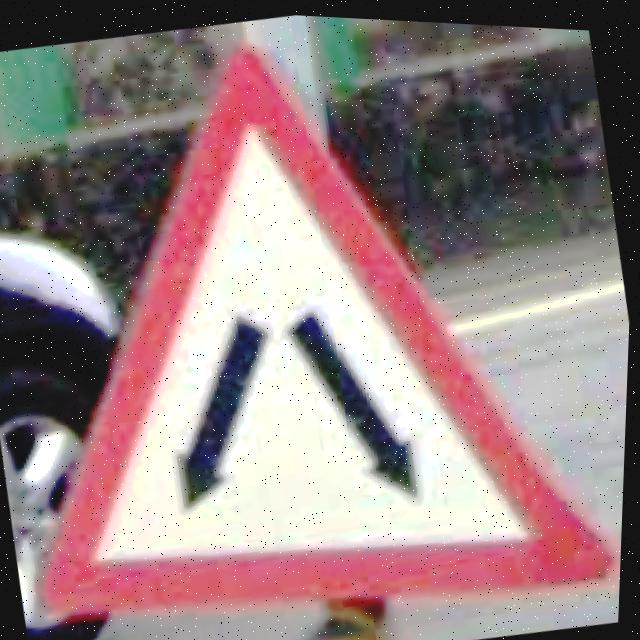diverge: (43, 45, 624, 619)
